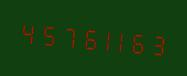five: (36, 15, 54, 52)
four: (17, 13, 35, 50)
one: (112, 21, 130, 59), (93, 20, 111, 57)
seven: (55, 16, 73, 54)
six: (74, 18, 92, 55), (131, 23, 149, 60)
three: (150, 25, 168, 62)
